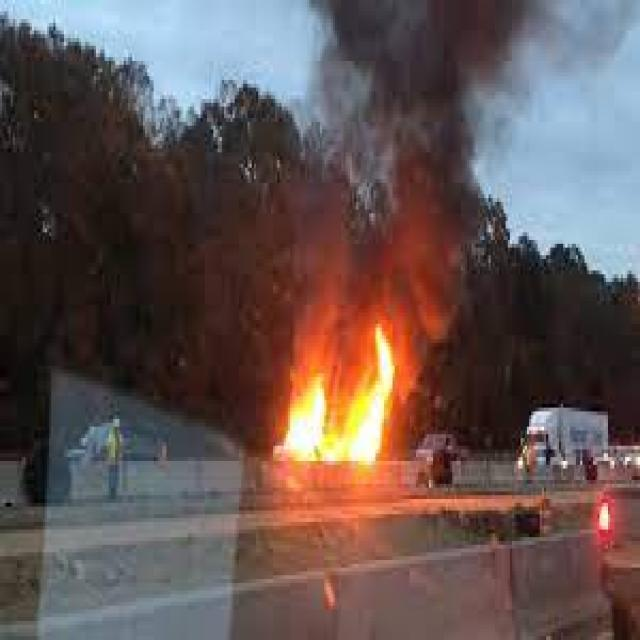fire: (269, 331, 397, 461)
smoke: (305, 4, 638, 175), (401, 4, 521, 400), (282, 69, 361, 374)
